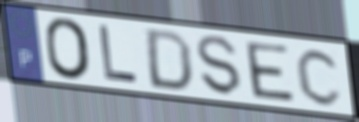C: (294, 46, 345, 108)
D: (145, 27, 194, 93)
E: (242, 40, 298, 105)
L: (97, 22, 141, 86)
O: (42, 16, 94, 82)
S: (194, 33, 244, 98)
